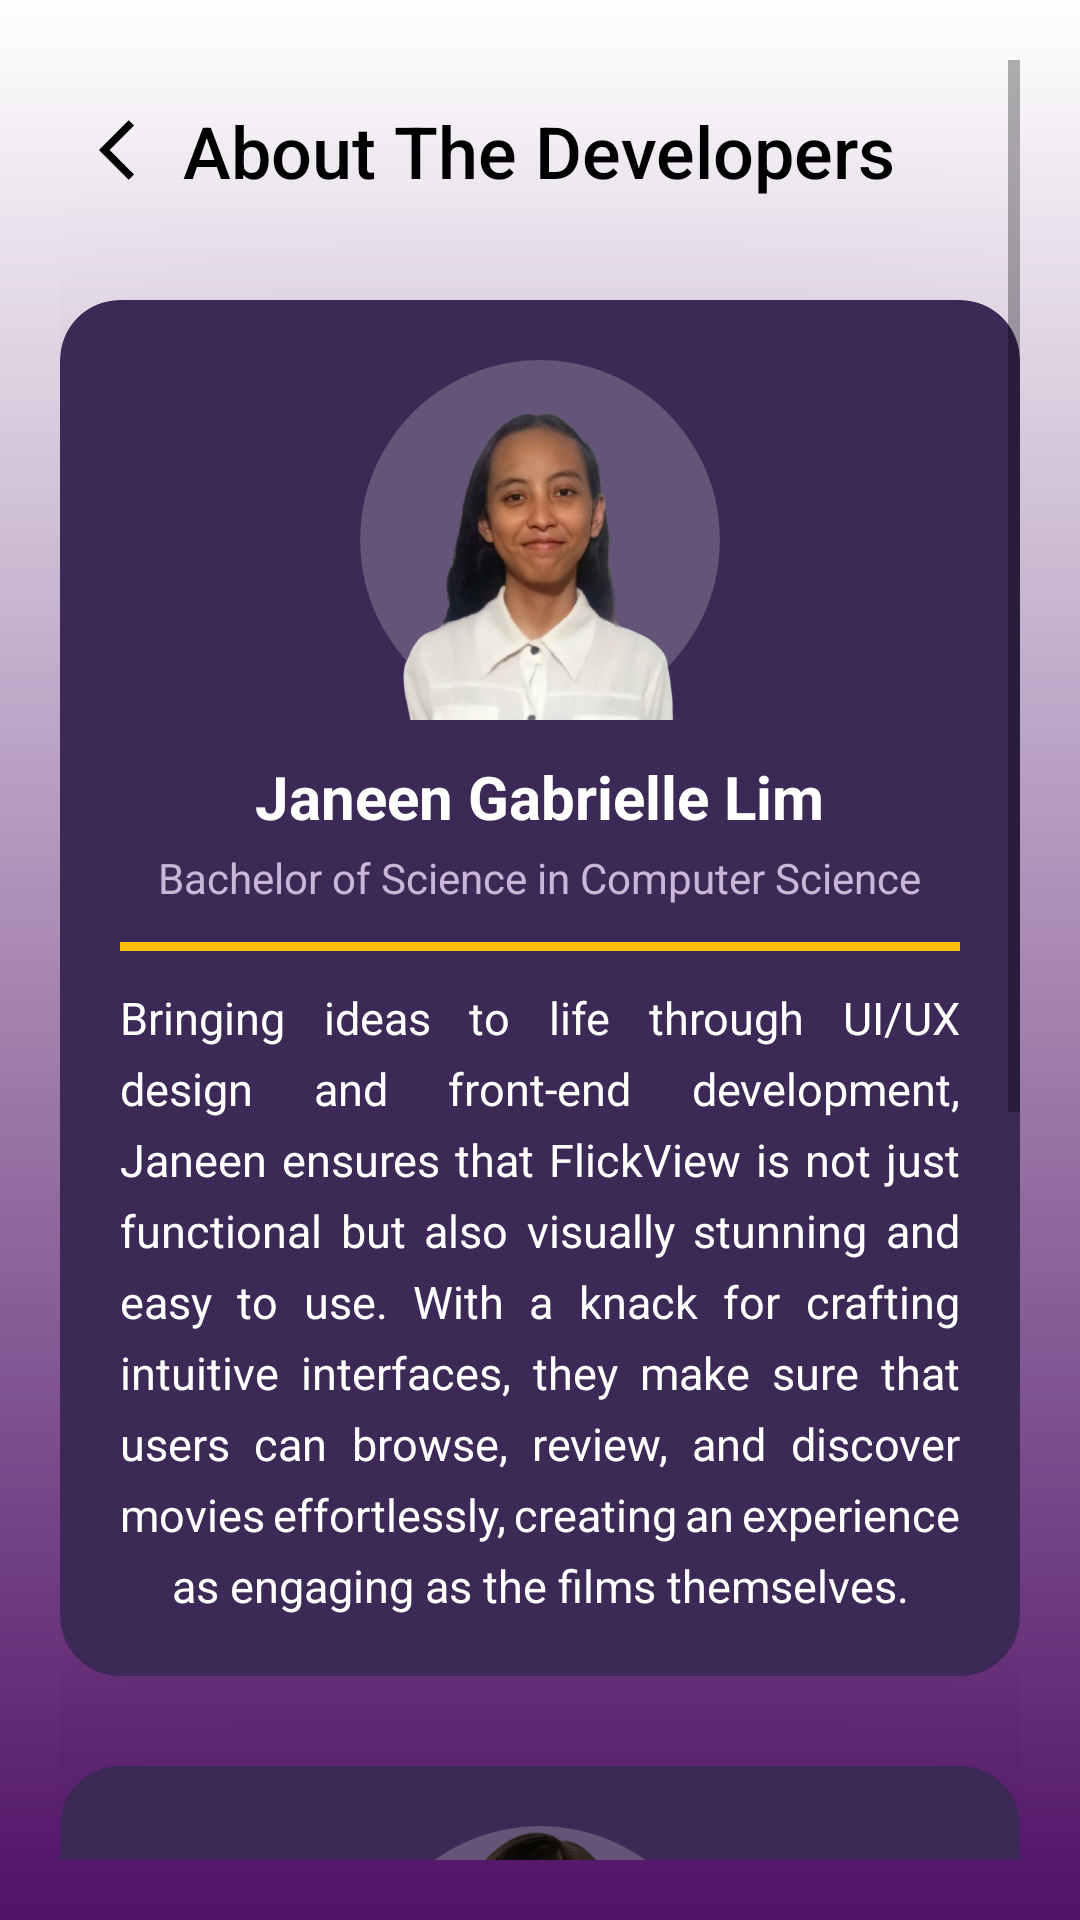

Point at icon controls on the screen. Image size 1080px x 1920px, points as (x=x, y=y).
Back: (x=116, y=150)
